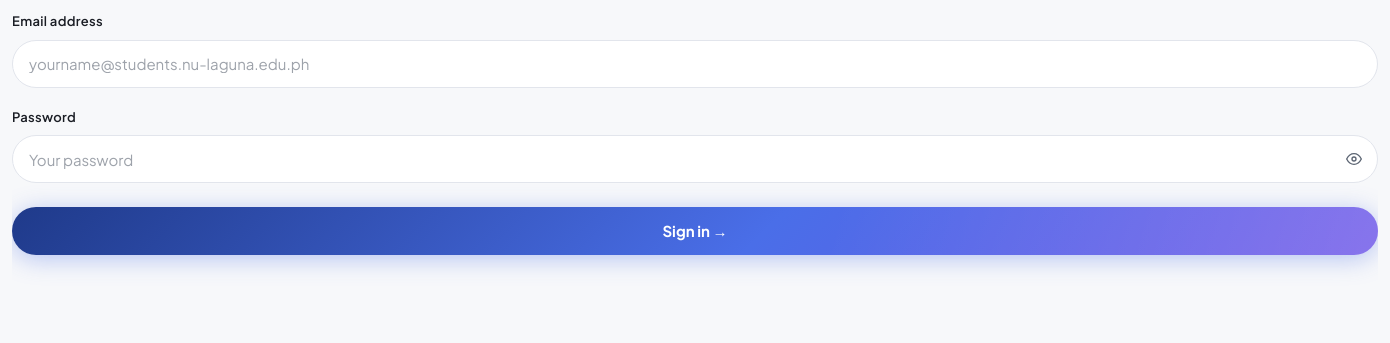
Test case: LoginForm › shows validation errors and does not submit when empty
Click the button "Sign in →". click: (695, 231)
box: [12,207,1378,255]
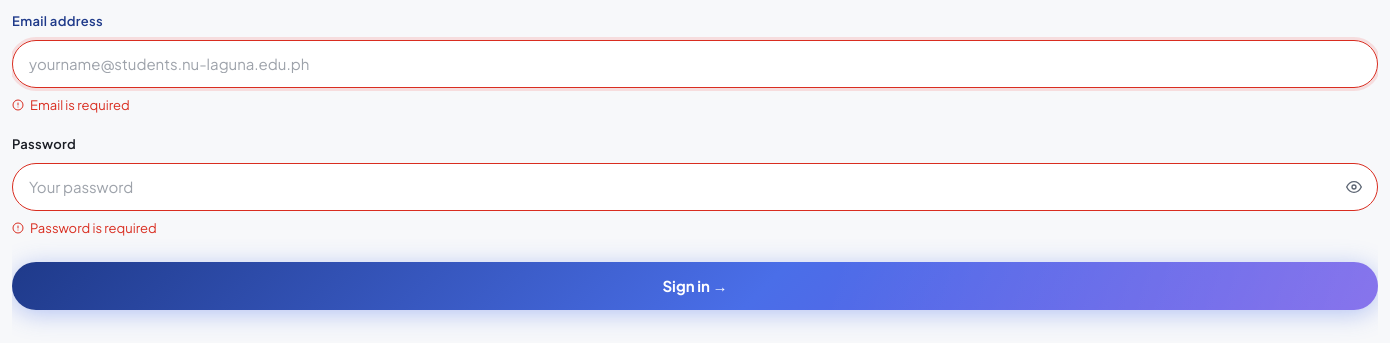
Expected: the text "Email is required" is shown, [12,96,130,112]
Expected: the text "Password is required" is shown, [12,220,157,236]
